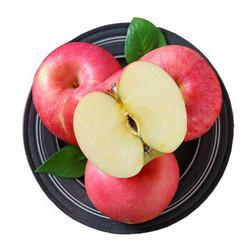apple: (124, 44, 225, 147), (29, 41, 121, 145), (83, 152, 178, 225)
